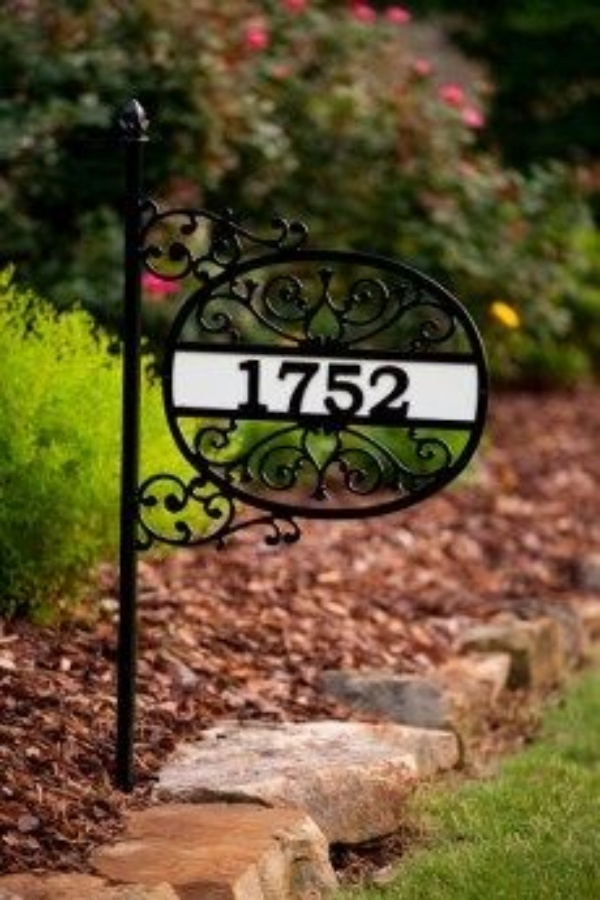text: (241, 355, 256, 421), (257, 355, 272, 421), (273, 355, 288, 421), (289, 355, 304, 421), (305, 355, 320, 421), (321, 355, 336, 421), (337, 355, 352, 421), (353, 355, 368, 421), (369, 355, 384, 421), (385, 355, 400, 421), (401, 355, 413, 421), (235, 355, 240, 421)
